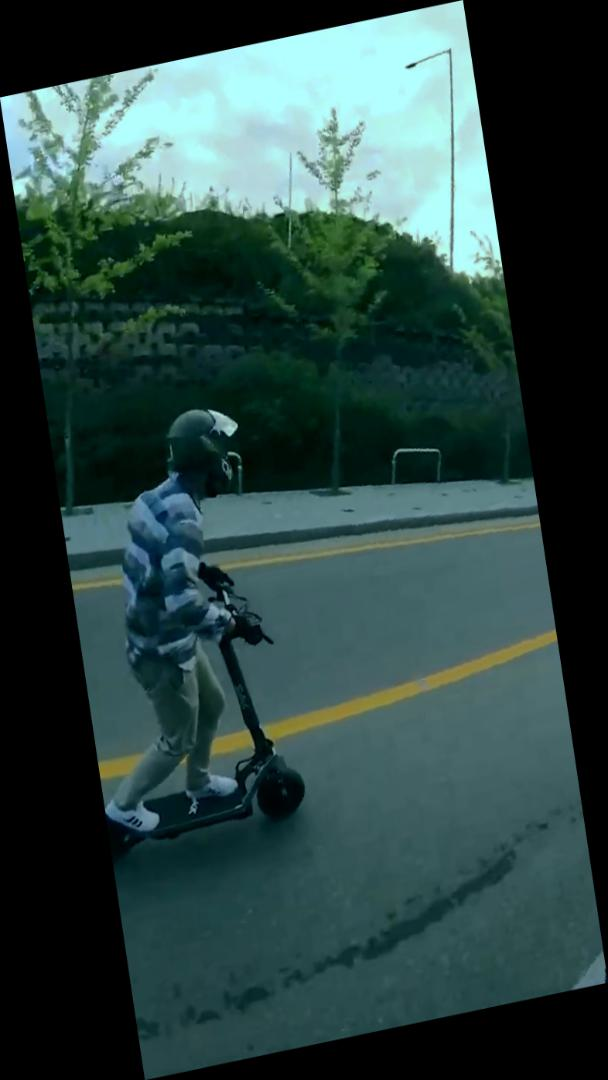helmet: (51, 397, 314, 861)
